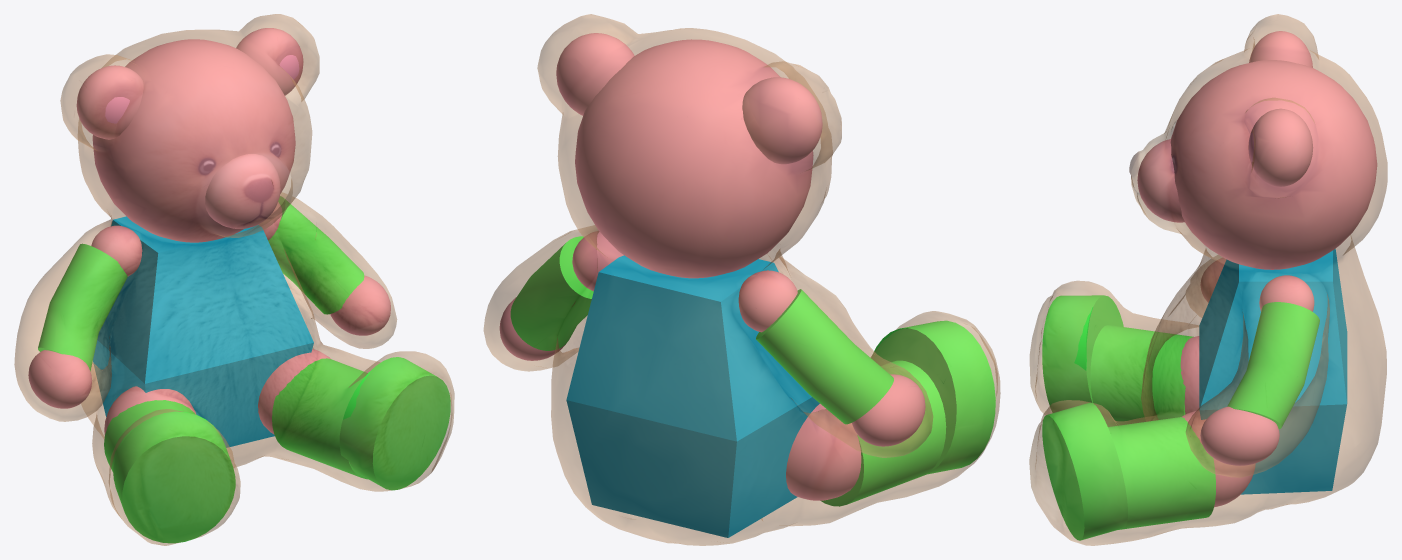
The model's file is teddybear1_shape.glb.
The picture shows the model from 3 angles, left to right: view 1: azimuth 30°, elevation 25°; view 2: azimuth 150°, elevation 25°; view 3: azimuth 270°, elevation 25°; orthographic projection. The views are drawn at different scales.
Parts seen in each view (by area): view 1: A, Sphere, Cylinder.002, Cube, Cylinder, Cylinder.001, Cube.001, Sphere.006, Sphere.002, Sphere.004, Sphere.003, Sphere.001; view 2: A, Sphere, Cube, Cube.001, Cylinder, Sphere.006, Cylinder.002, Cylinder.001, Sphere.003, Sphere.002, Sphere.001; view 3: A, Sphere, Cylinder.001, Cylinder.002, Cube, Cylinder, Cube.001, Sphere.006, Sphere.002, Sphere.003, Sphere.004, Sphere.001.
Boxes of the visible parts, left/top/right/bottom form: A: left=14, top=14, right=454, bottom=545; Sphere: left=92, top=39, right=295, bottom=242; Cylinder.002: left=113, top=357, right=450, bottom=543; Cube: left=97, top=216, right=313, bottom=383; Cylinder: left=38, top=196, right=364, bottom=371; Cylinder.001: left=104, top=358, right=367, bottom=479; Cube.001: left=93, top=340, right=313, bottom=447; Sphere.006: left=76, top=28, right=303, bottom=139; Sphere.002: left=28, top=275, right=390, bottom=408; Sphere.004: left=205, top=154, right=280, bottom=228; Sphere.003: left=104, top=349, right=330, bottom=435; Sphere.001: left=91, top=202, right=281, bottom=276; A: left=483, top=14, right=1000, bottom=545; Sphere: left=575, top=39, right=813, bottom=278; Cube: left=566, top=255, right=811, bottom=441; Cube.001: left=566, top=397, right=819, bottom=537; Cylinder: left=510, top=236, right=893, bottom=424; Sphere.006: left=556, top=33, right=822, bottom=164; Cylinder.002: left=871, top=320, right=995, bottom=474; Cylinder.001: left=820, top=360, right=946, bottom=506; Sphere.003: left=786, top=404, right=861, bottom=500; Sphere.002: left=499, top=297, right=925, bottom=446; Sphere.001: left=572, top=231, right=797, bottom=332; A: left=1029, top=14, right=1387, bottom=545; Sphere: left=1170, top=60, right=1377, bottom=269; Cylinder.001: left=1090, top=325, right=1215, bottom=529; Cylinder.002: left=1042, top=295, right=1127, bottom=540; Cube: left=1199, top=249, right=1347, bottom=409; Cylinder: left=1227, top=302, right=1319, bottom=429; Cube.001: left=1200, top=404, right=1346, bottom=494; Sphere.006: left=1248, top=31, right=1313, bottom=186; Sphere.002: left=1200, top=258, right=1279, bottom=465; Sphere.003: left=1180, top=336, right=1255, bottom=507; Sphere.004: left=1137, top=139, right=1184, bottom=222; Sphere.001: left=1259, top=275, right=1314, bottom=311.
Size of the model in its own units: 1.77 by 1.92 by 1.48.
Materials: 4 (1 with a texture image).
